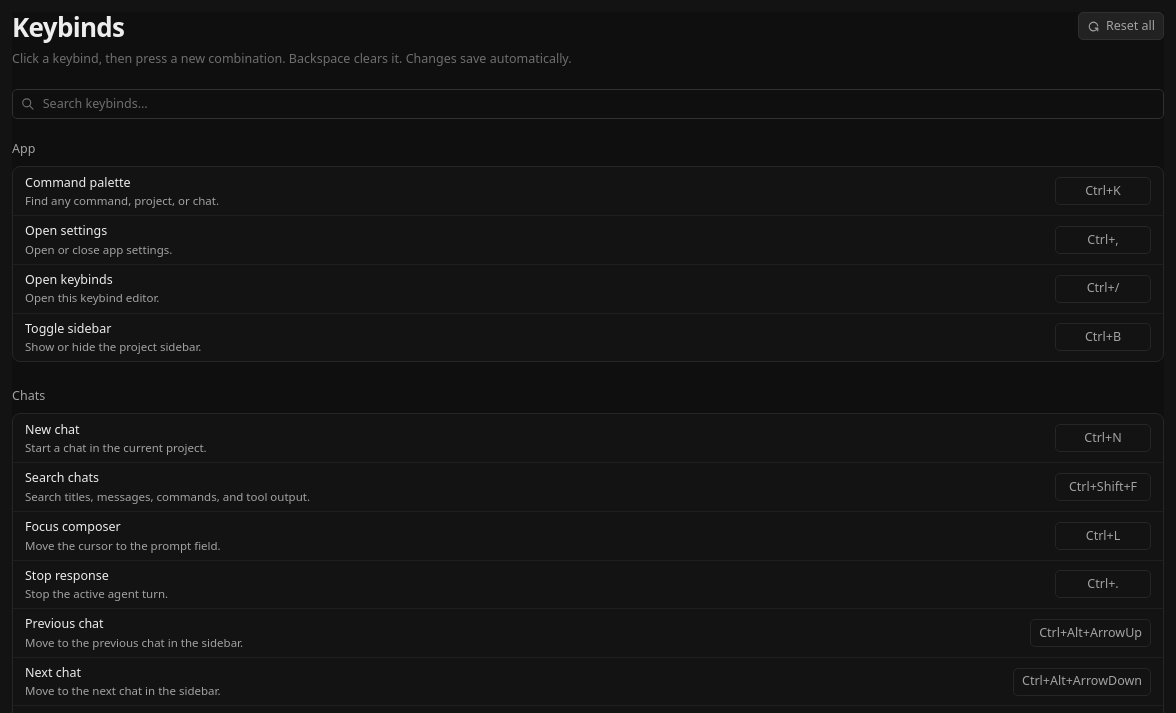
Test: keybind settings › shows Ctrl and Alt labels and records Windows/Linux shortcuts
Expected: the text "Ctrl+K" is shown, [1085,185,1121,198]
Expected: the text "Ctrl+Alt+ArrowDown" is shown, [1022,675,1142,688]
Click the button with aria-label "Change Command palette keybind".
click(1103, 191)  # box [1055,177,1151,205]
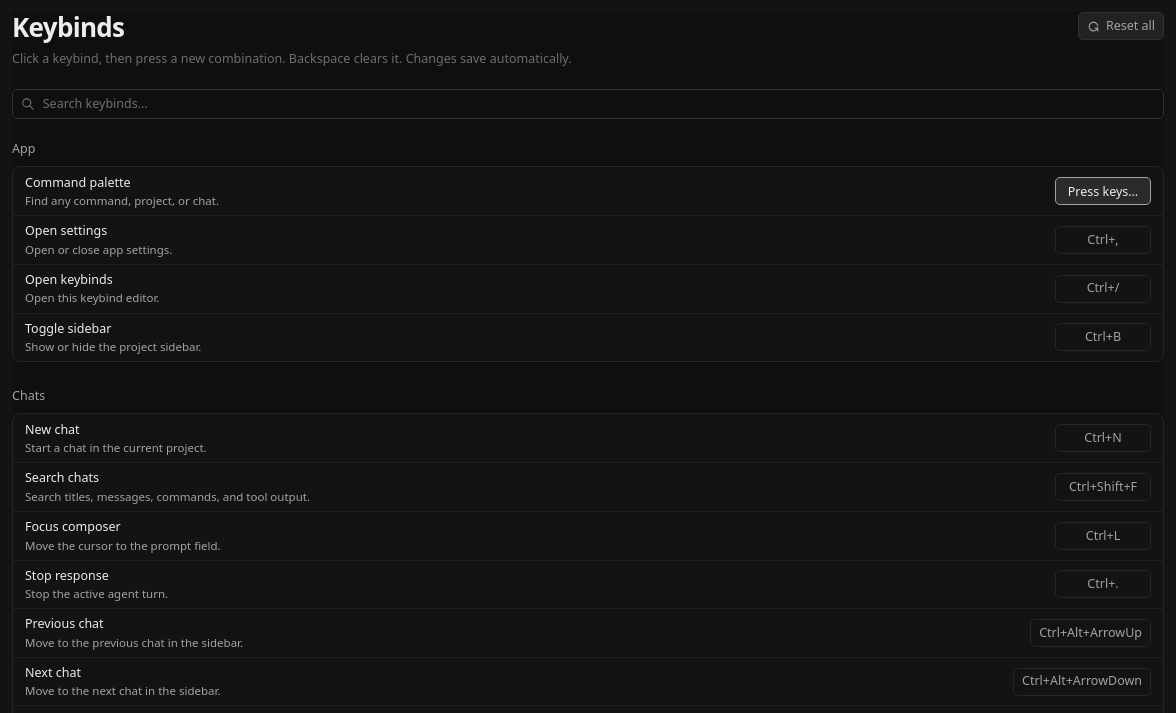
Press g in the button with aria-label "Change Command palette keybind", box [1055,177,1151,205]
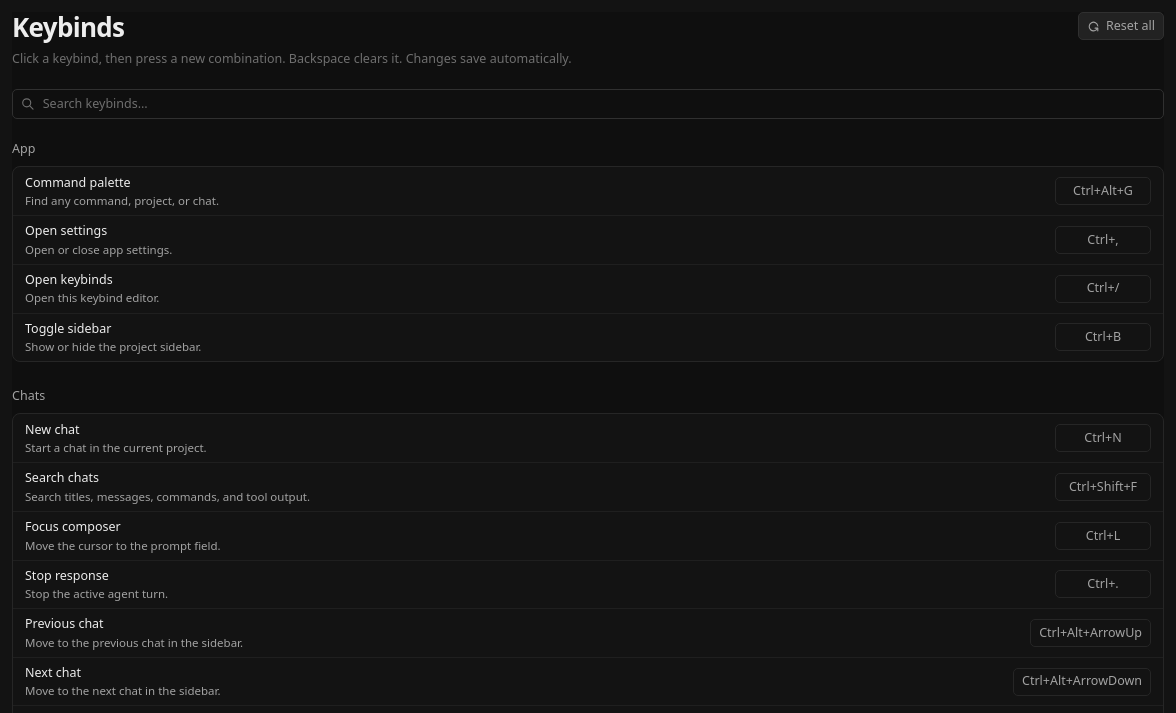
Expected: the text "Ctrl+Alt+G" is shown, [1073,185,1133,198]
